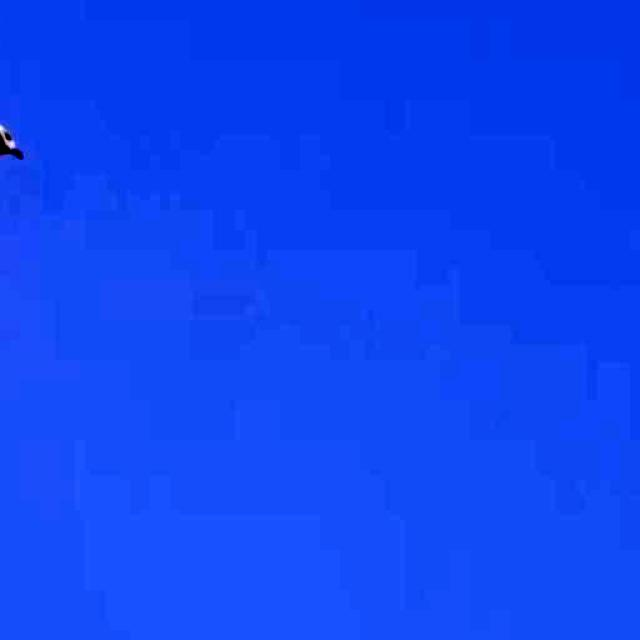airplane: (0, 0, 40, 330)
